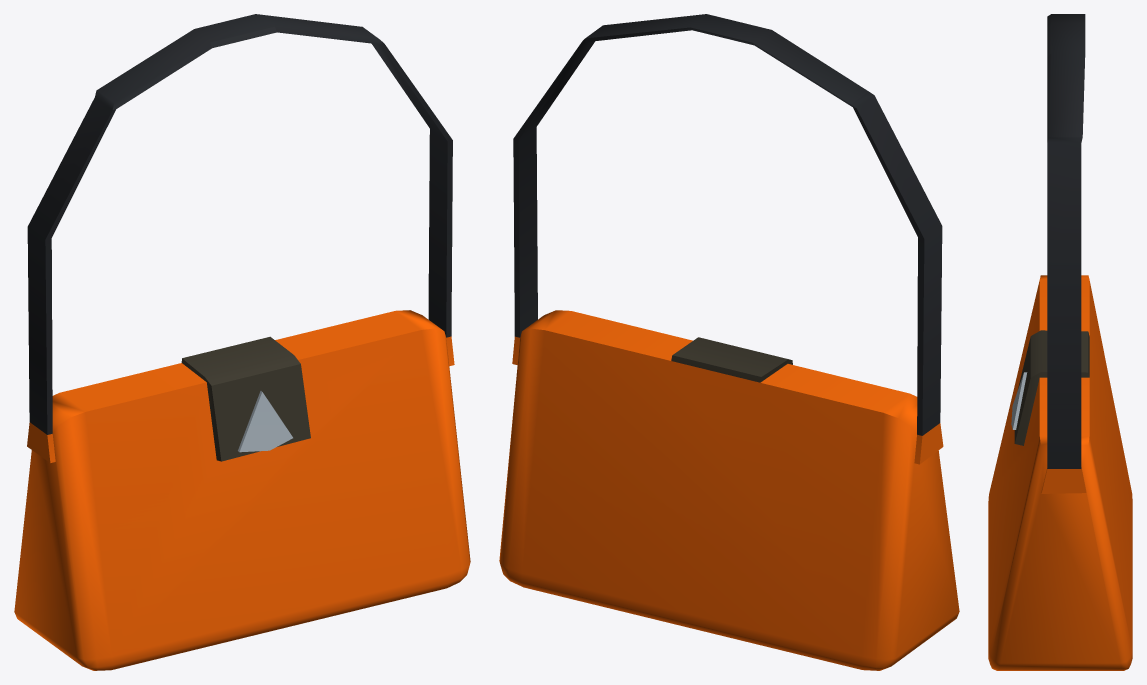
The model's file is SM_handanabla_bag_002.fbx.
The picture shows the model from 3 angles, left to right: view 1: azimuth 30°, elevation 25°; view 2: azimuth 150°, elevation 25°; view 3: azimuth 270°, elevation 25°; orthographic projection. The views are drawn at different scales.
Parts seen in each view (by area): view 1: handan_abla canta; view 2: handan_abla canta; view 3: handan_abla canta.
Boxes of the visible parts, bbox=[...] form: handan_abla canta: bbox=[14, 14, 470, 670]; handan_abla canta: bbox=[499, 14, 959, 670]; handan_abla canta: bbox=[988, 14, 1132, 670].
Bounding box in the file's own units: 207 × 279 × 66.54.
